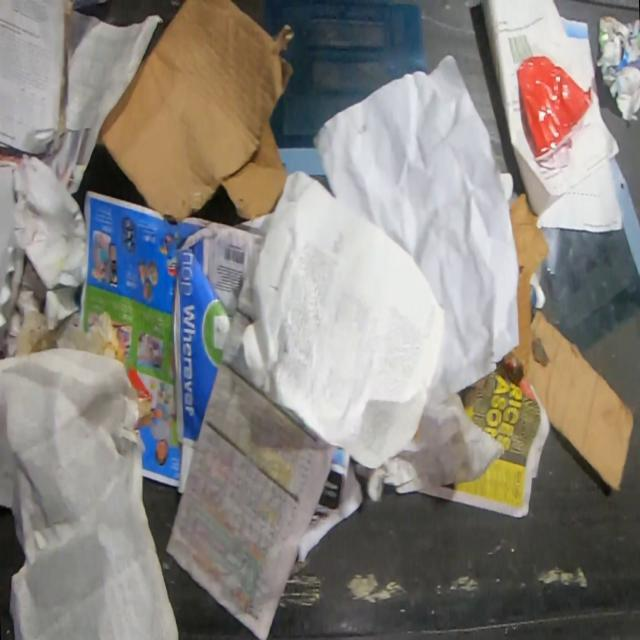cardboard: (94, 0, 294, 225), (526, 308, 635, 494), (503, 192, 548, 376)
rigid_plastic: (516, 55, 593, 170)
soft_plastic: (266, 0, 430, 177), (535, 157, 640, 355)
